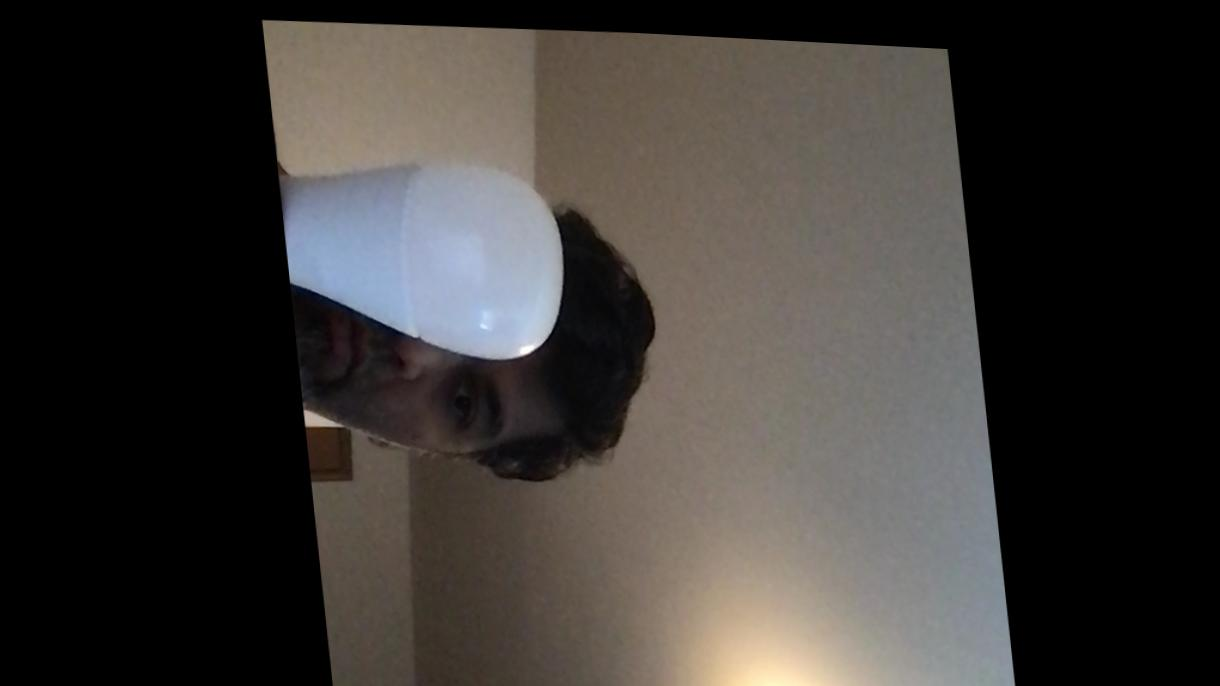Fan: (318, 150, 570, 359)
